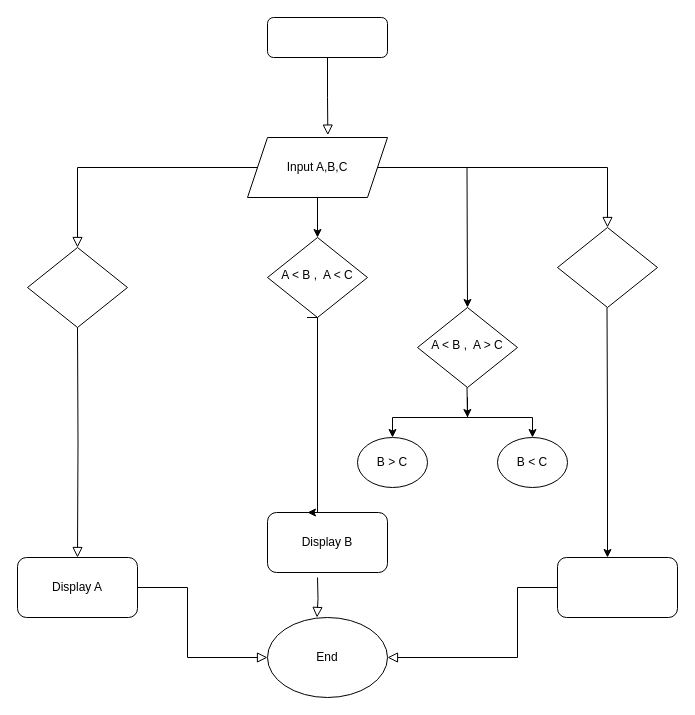
This 695x715 diagram has some shape labels left out. Here are the shapes that lost their labels. From the top down, the centre of each, then its label:
[327,37]: Begin
[77,287]: A > B , A > C
[607,267]: A > B , A < C
[617,587]: Display C
